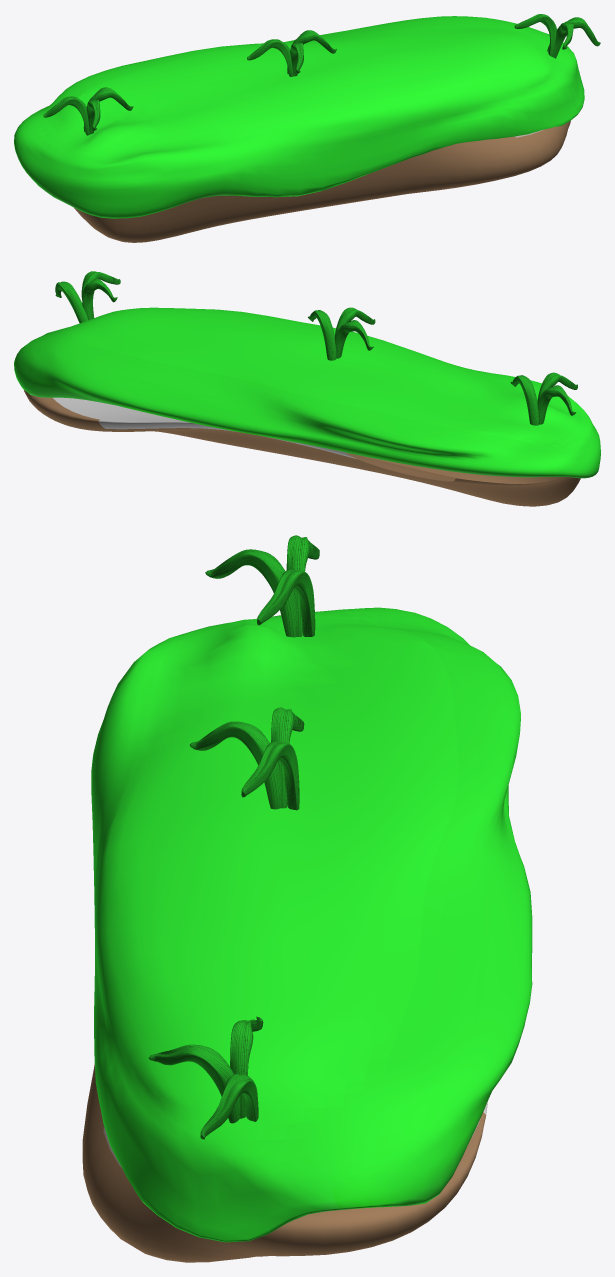
Rendered from PlatformMid.fbx.
3 views of the same model, one above another, from view 1: azimuth 30°, elevation 25°; view 2: azimuth 150°, elevation 25°; view 3: azimuth 270°, elevation 25° (orthographic). The views are drawn at different scales.
Parts seen in each view (by area): view 1: cimgovde, Toprak, ot.002, ot, ot.001; view 2: cimgovde, Toprak, ot.001, ot, ot.002; view 3: cimgovde, Toprak, ot.001, ot, ot.002.
Boxes of the visible parts, x1,y1,x2,y2 form: cimgovde: [14, 16, 584, 218]; Toprak: [74, 121, 570, 242]; ot.002: [514, 14, 600, 58]; ot: [43, 87, 133, 135]; ot.001: [247, 30, 336, 76]; cimgovde: [14, 307, 600, 478]; Toprak: [24, 390, 580, 506]; ot.001: [308, 307, 375, 360]; ot: [510, 372, 577, 425]; ot.002: [55, 271, 120, 323]; cimgovde: [91, 607, 532, 1242]; Toprak: [82, 1064, 487, 1262]; ot.001: [190, 707, 304, 810]; ot: [205, 535, 319, 637]; ot.002: [148, 1016, 263, 1139].
Bounding box in the file's own units: 193 × 53.58 × 68.82.
Materials: 3 (3 with a texture image).
